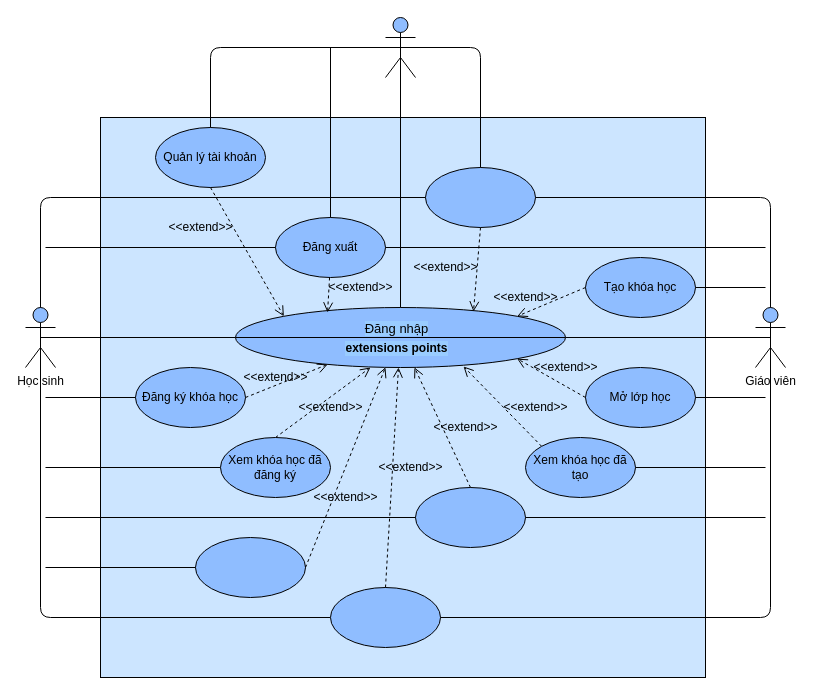
Image size: 813x695. Some labels were removed from this diagram. Here are the shapes that lost their labels. From the top down, the centre of each, then its label:
At point (400, 47): "Quản trị viên".
At point (480, 197): "Đăng ký".
At point (470, 517): "Sửa đổi thông tin cá nhân".
At point (250, 567): "Vào lớp học".
At point (385, 617): "Tìm kiếm khóa học".
